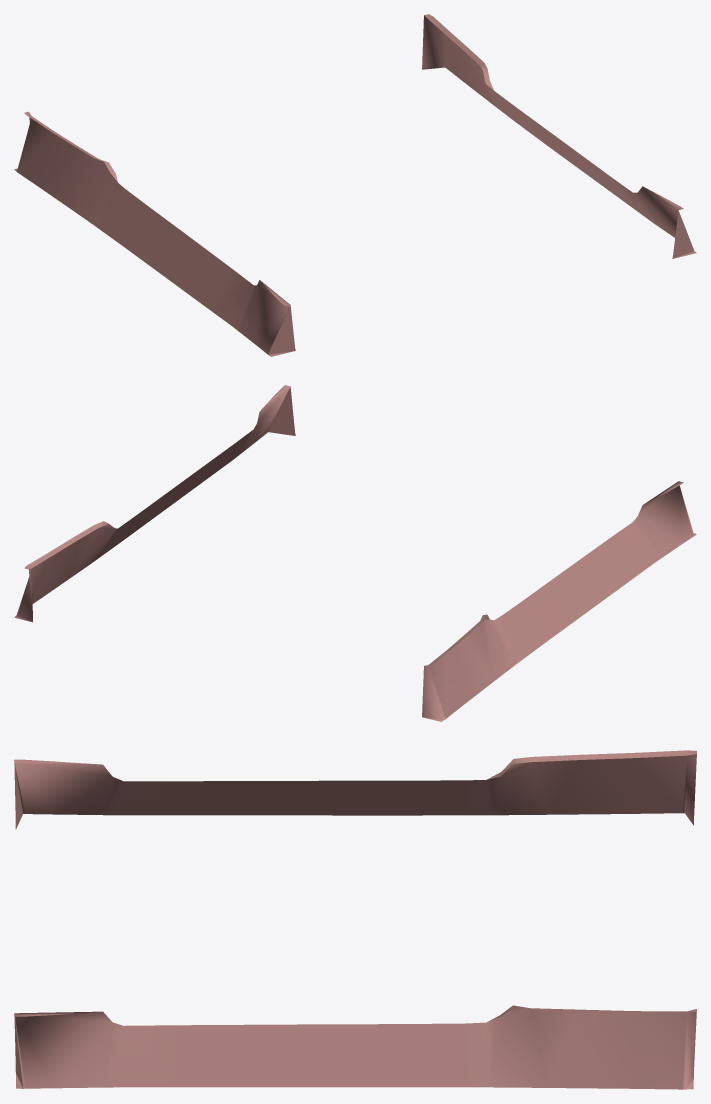
File: R34_Skirt03_Trim.fbx
3 views of the same model, one above another, from view 1: azimuth 30°, elevation 25°; view 2: azimuth 150°, elevation 25°; view 3: azimuth 270°, elevation 25° (orthographic). The views are drawn at different scales.
Parts seen in each view (by area): view 1: R34_Skirt03_Trim; view 2: R34_Skirt03_Trim; view 3: R34_Skirt03_Trim.
Part boxes in pixels (<box>): R34_Skirt03_Trim: <box>14,14,696,356</box>; R34_Skirt03_Trim: <box>14,385,696,721</box>; R34_Skirt03_Trim: <box>14,750,696,1089</box>.
Size of the model in its own units: 185 by 21.81 by 193.
